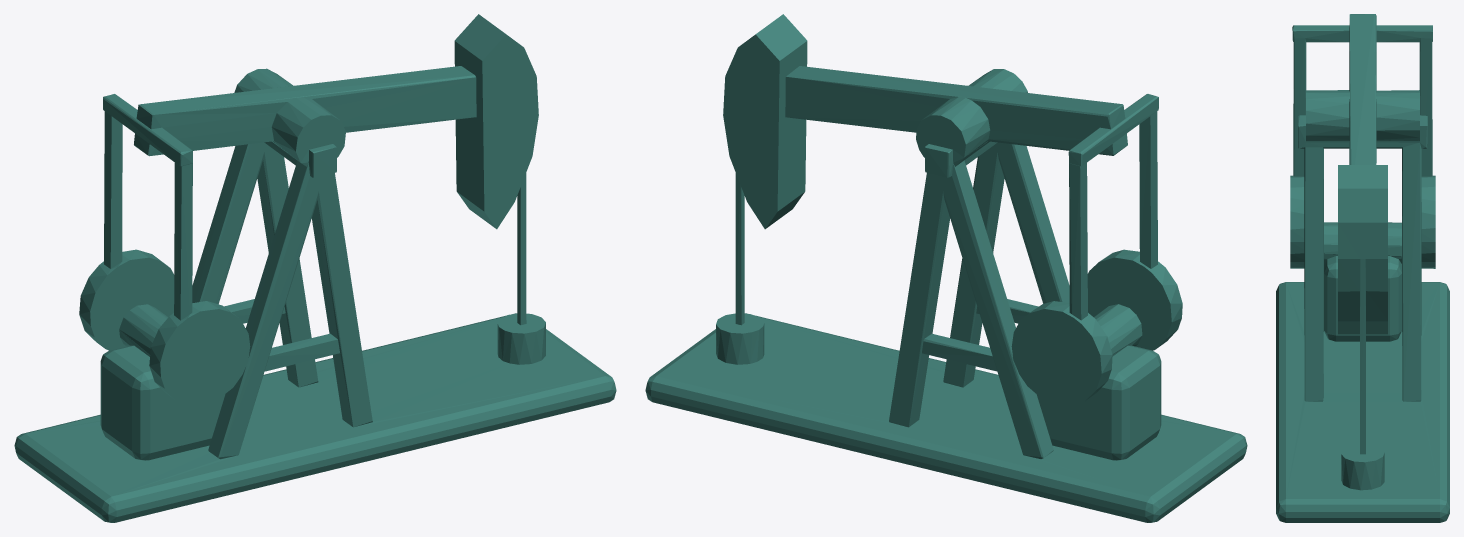
The model's file is NEW_RECOVERY_119_LOD2.glb.
3 renders of one model, left to right at view 1: azimuth 30°, elevation 25°; view 2: azimuth 150°, elevation 25°; view 3: azimuth 270°, elevation 25°, orthographic. The views are drawn at different scales.
Visible parts, largest first — view 1: Static oil pumpjack LOD2; view 2: Static oil pumpjack LOD2; view 3: Static oil pumpjack LOD2.
Part boxes in pixels (x1=…): Static oil pumpjack LOD2: x1=14, y1=14, x2=616, y2=522; Static oil pumpjack LOD2: x1=645, y1=14, x2=1247, y2=522; Static oil pumpjack LOD2: x1=1276, y1=14, x2=1449, y2=522.
Size of the model in its own units: 4.9 by 3.32 by 1.6.
